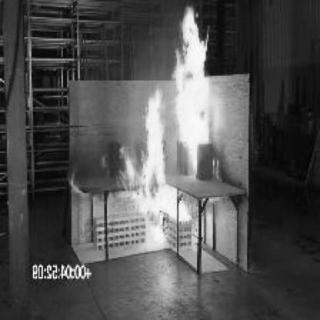Fire: (123, 84, 191, 250), (177, 3, 221, 164)
Smoke: (72, 131, 115, 191)
